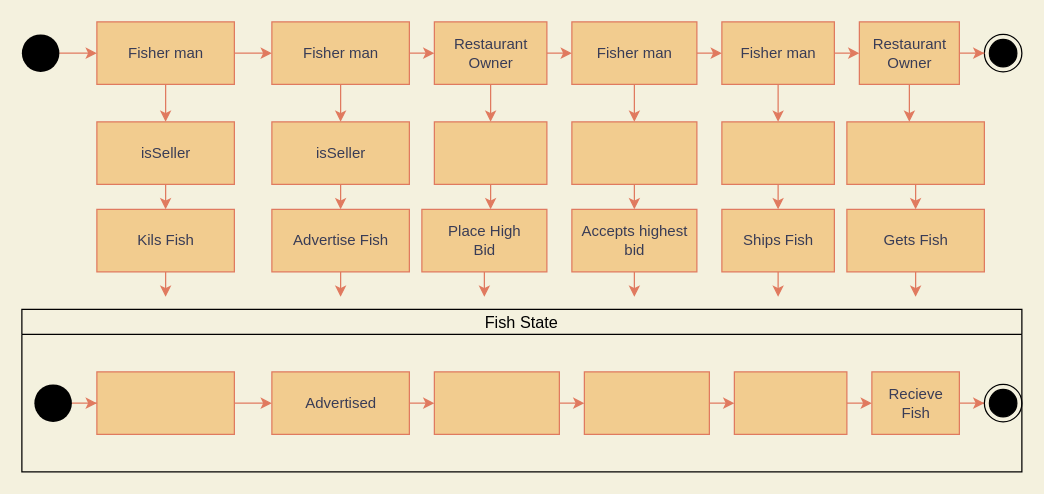
This 1044x494 diagram has some shape labels left out. The box of each missing label's shape, as (x1, y1, x2, y2) in pixels:
Fish Killed: (96, 371, 234, 434)
isBuyer: (433, 121, 547, 184)
isBuyer, isHighestBidder: (846, 121, 984, 184)
isSeller, isAdvertised: (571, 121, 697, 184)
isSeller, isAdvertised, isSender: (721, 121, 834, 184)
Place bid: (433, 371, 559, 434)
Send Fish: (733, 371, 847, 434)
Sold to highest bidder: (583, 371, 709, 434)
